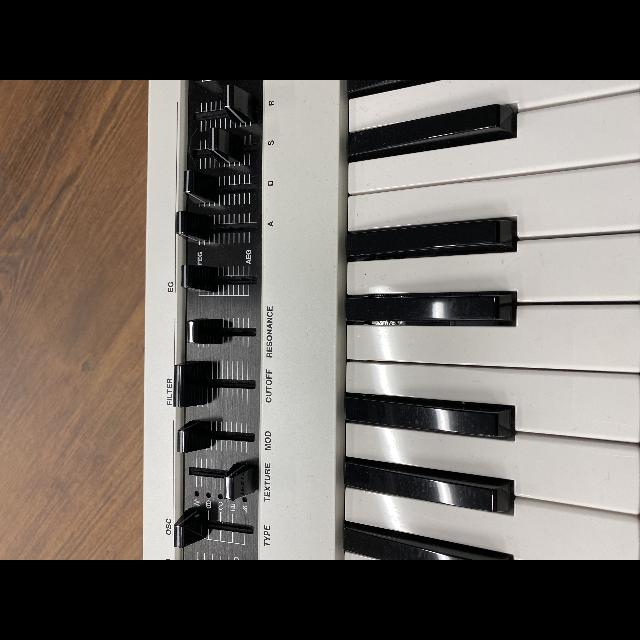Electronic-Keyboard: (144, 80, 640, 560)
